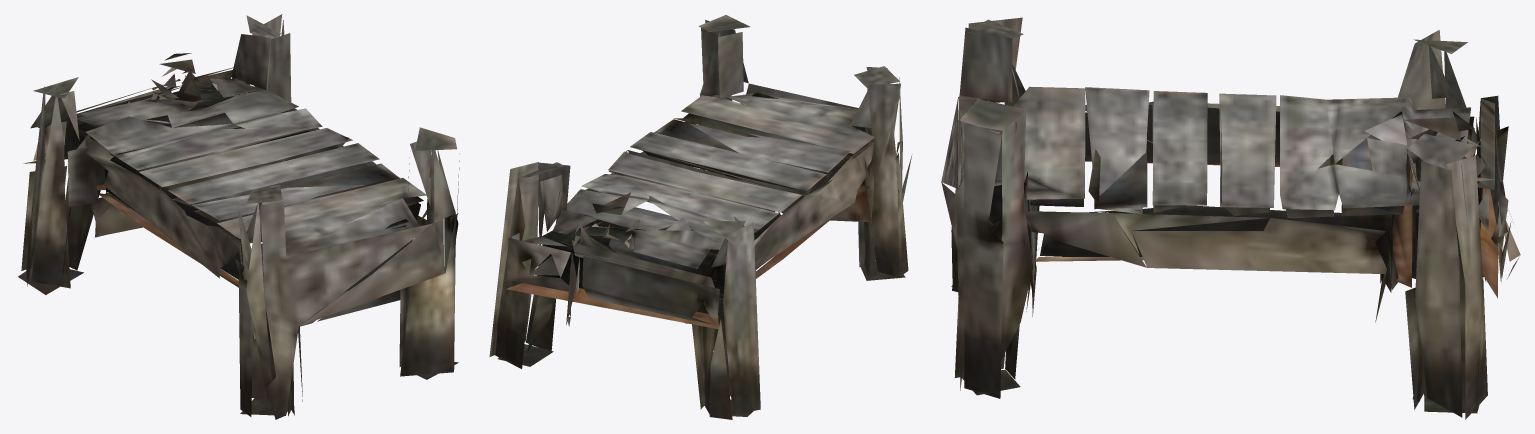
Rendered from kueste_steg_lo.glb.
3 renders of one model, left to right at view 1: azimuth 30°, elevation 25°; view 2: azimuth 150°, elevation 25°; view 3: azimuth 270°, elevation 25°, orthographic. The views are drawn at different scales.
Parts seen in each view (by area): view 1: Prop; view 2: Prop; view 3: Prop.
Part boxes in pixels (box(x1,y1,x2,y2)): Prop: box(18, 14, 459, 419); Prop: box(489, 15, 912, 419); Prop: box(941, 17, 1520, 419).
Size of the model in its own units: 1.28 by 1.04 by 1.89.
1 material, 1 textured.
